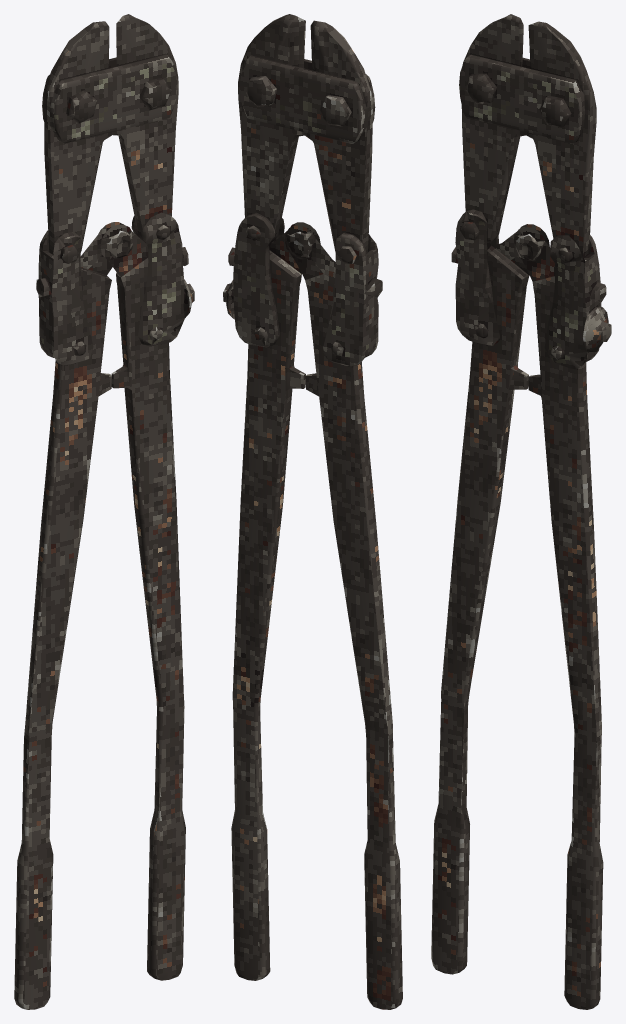
Rendered from bolt_cutters_01.glb.
The picture shows the model from 3 angles, left to right: view 1: azimuth 30°, elevation 25°; view 2: azimuth 150°, elevation 25°; view 3: azimuth 330°, elevation 25°; orthographic projection.
Visible parts, largest first — view 1: body; view 2: body; view 3: body.
Part boxes in pixels (bbox=[...]): body: bbox=[14, 14, 194, 1009]; body: bbox=[223, 14, 402, 1009]; body: bbox=[431, 14, 611, 1009].
Bounding box in the file's own units: 0.151 × 0.8026 × 0.036.
Materials: 1 (1 with a texture image).
